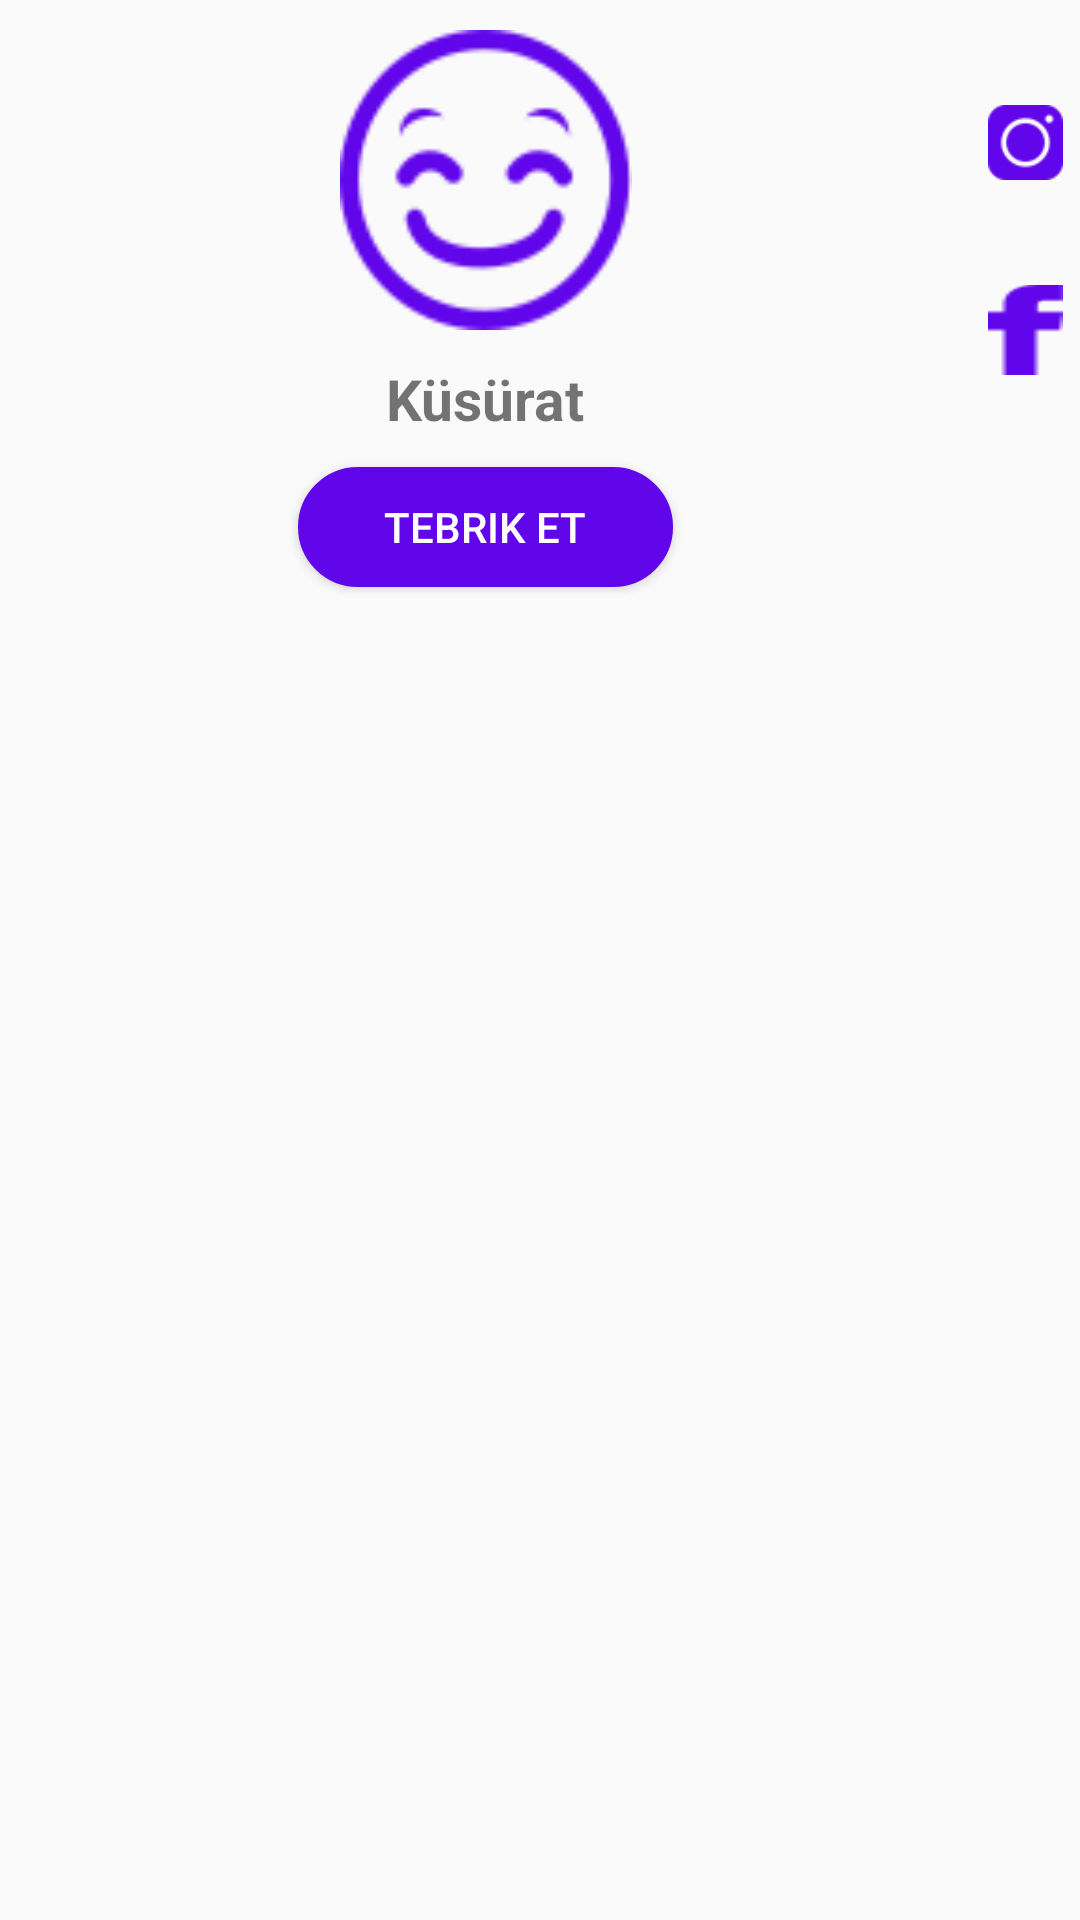

Icons on this 1080×1920 Android screen, each with the point to tap as (x=x, y=y):
kafa: (x=486, y=180)
